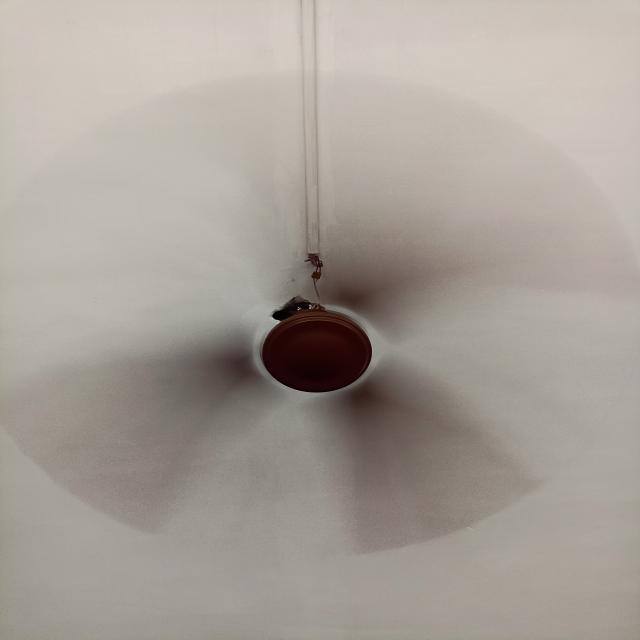fan: (14, 78, 631, 559)
light: (258, 296, 373, 393)
